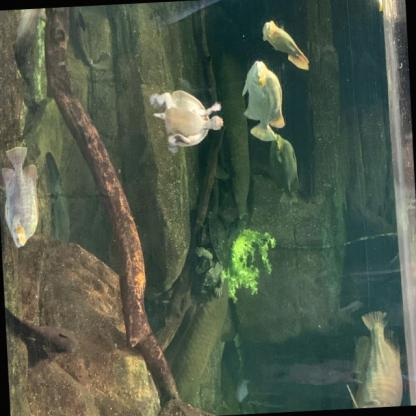fish: (341, 307, 407, 409), (0, 144, 42, 250), (240, 61, 286, 145), (12, 8, 53, 97), (65, 5, 112, 72), (261, 16, 312, 74), (266, 132, 301, 206)
